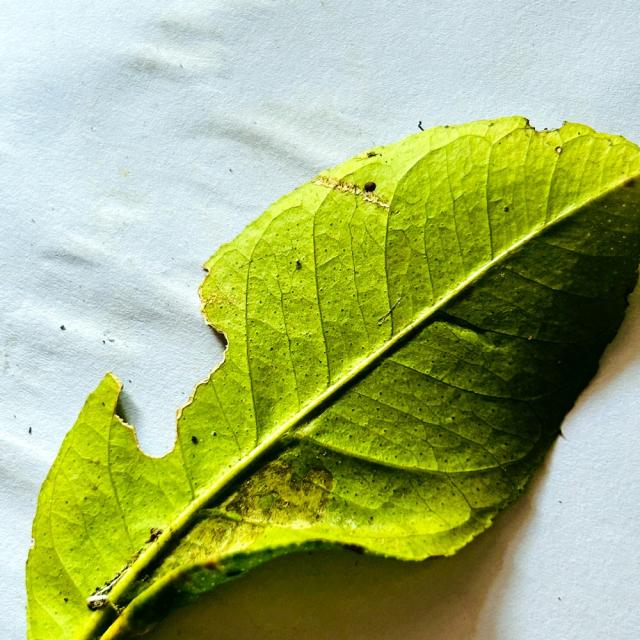Deficiency Leaf: (110, 326, 224, 456), (523, 110, 567, 131)
Lemon: (26, 117, 639, 639)
